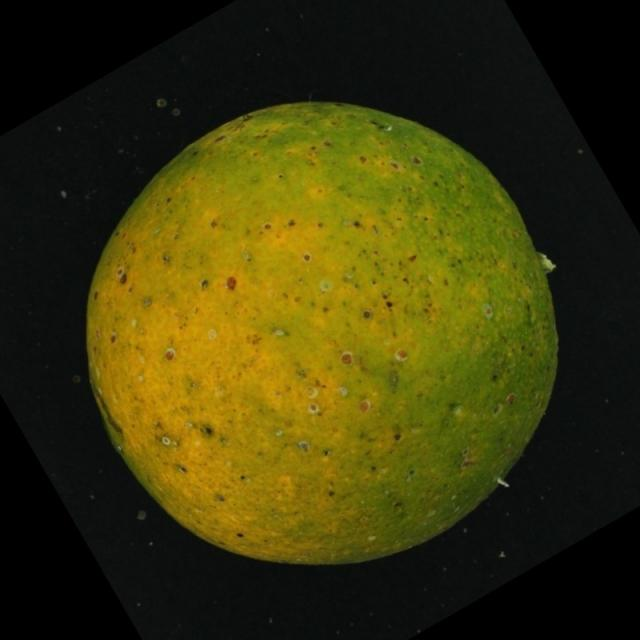grenning: (68, 88, 588, 588)
